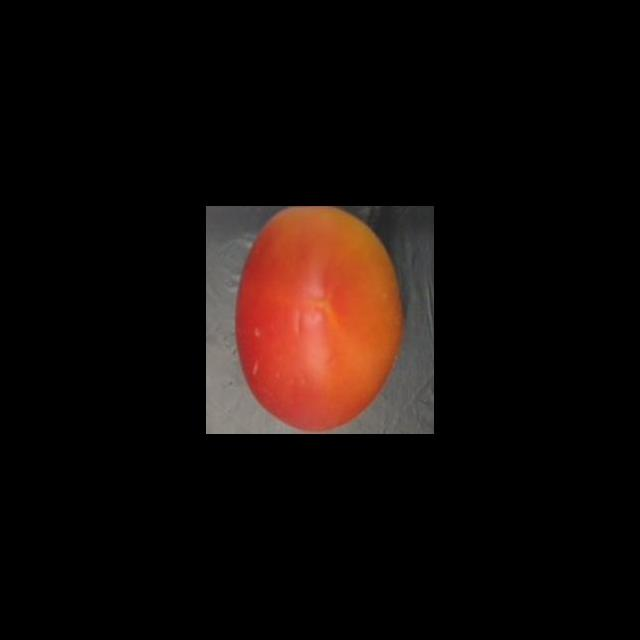tomato: (233, 206, 406, 434)
